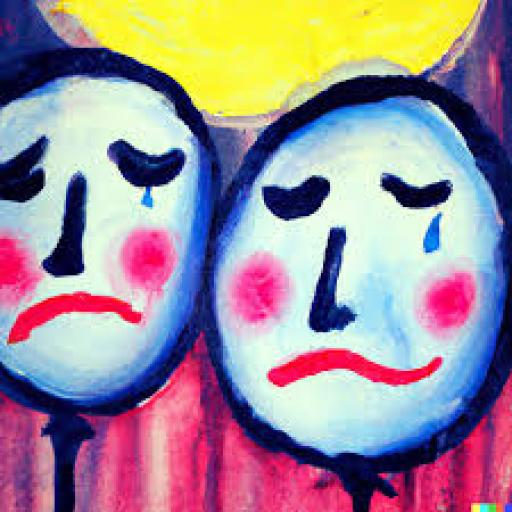person: (204, 74, 512, 506), (0, 46, 219, 510)
